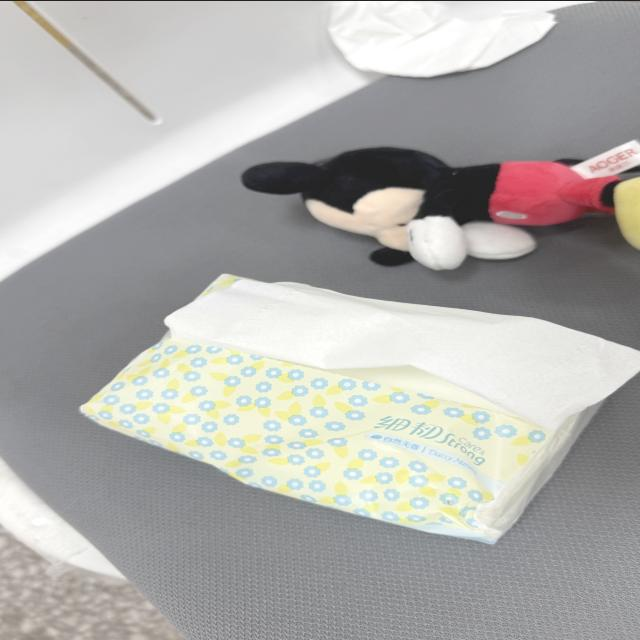mickey: (243, 147, 639, 268)
tissue: (82, 274, 639, 542), (166, 279, 639, 539), (166, 279, 639, 428), (329, 1, 583, 75)
